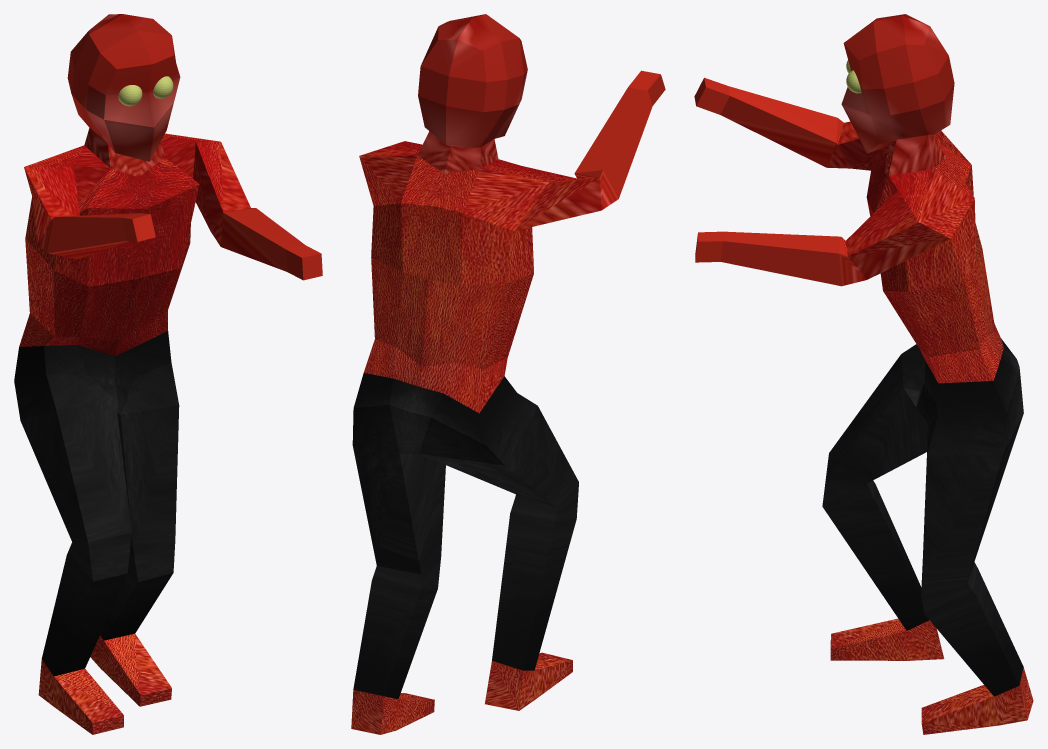
File: laySheary_000033.obj
3 views of the same model, side by side, from view 1: azimuth 30°, elevation 25°; view 2: azimuth 150°, elevation 25°; view 3: azimuth 270°, elevation 25° (orthographic). The views are drawn at different scales.
Visible parts, largest first — view 1: Cube; view 2: Cube; view 3: Cube.
Boxes of the visible parts, bbox=[...] form: Cube: bbox=[14, 14, 322, 734]; Cube: bbox=[351, 14, 665, 734]; Cube: bbox=[694, 14, 1033, 734].
Bounding box in the file's own units: 5.16 × 15.92 × 7.08.
3 materials, 2 textured.
